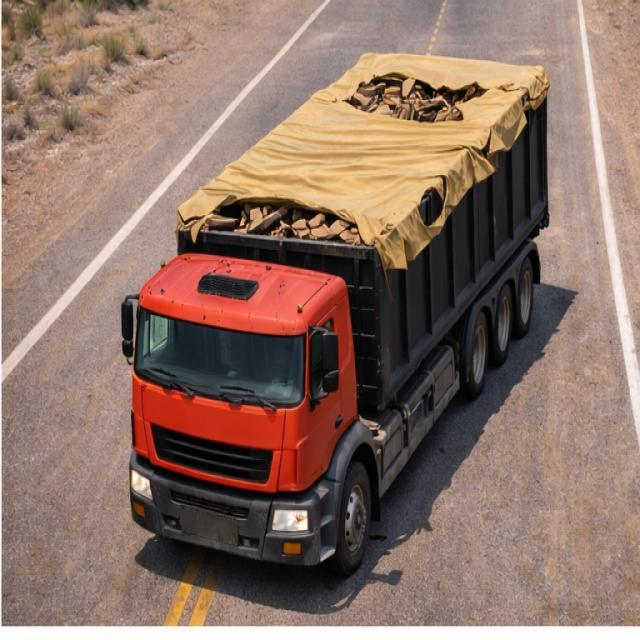Box: (175, 53, 547, 245)
Truck: (121, 23, 586, 581)
